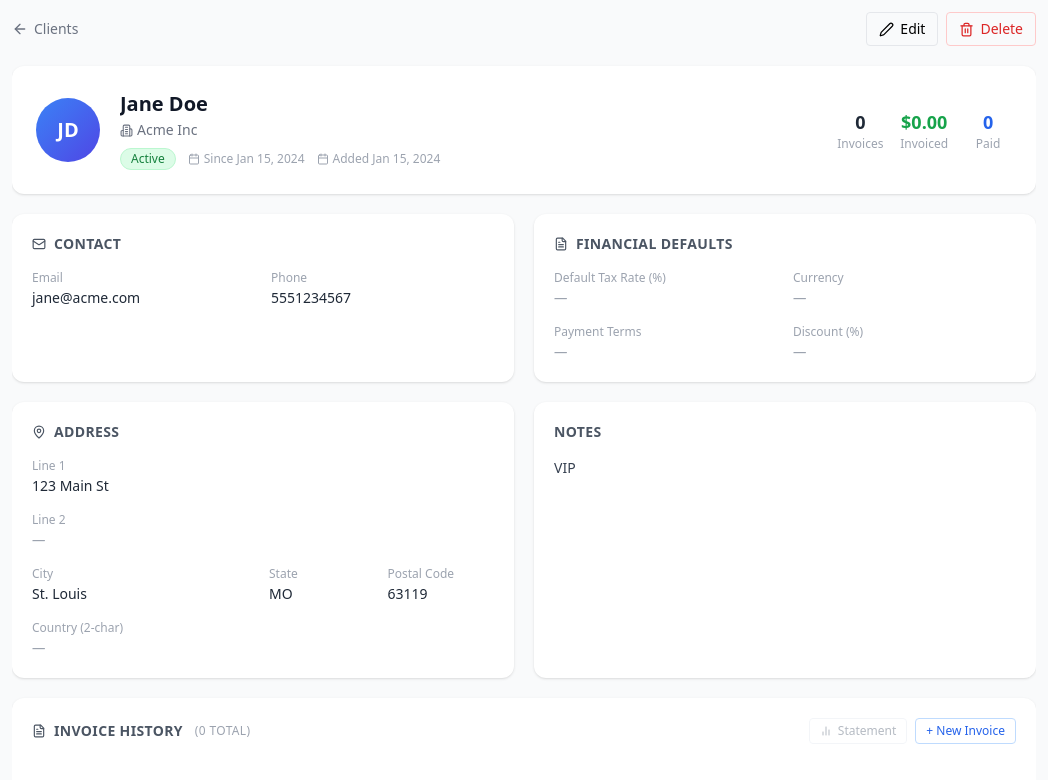
Test: ClientDetail — required field validation › blocks save and shows error when phone is cleared
Expected: the heading "Jane Doe" is shown, [120,90,208,117]
Step 1. Click the button "Edit" → click(902, 29), box [866,12,938,46]
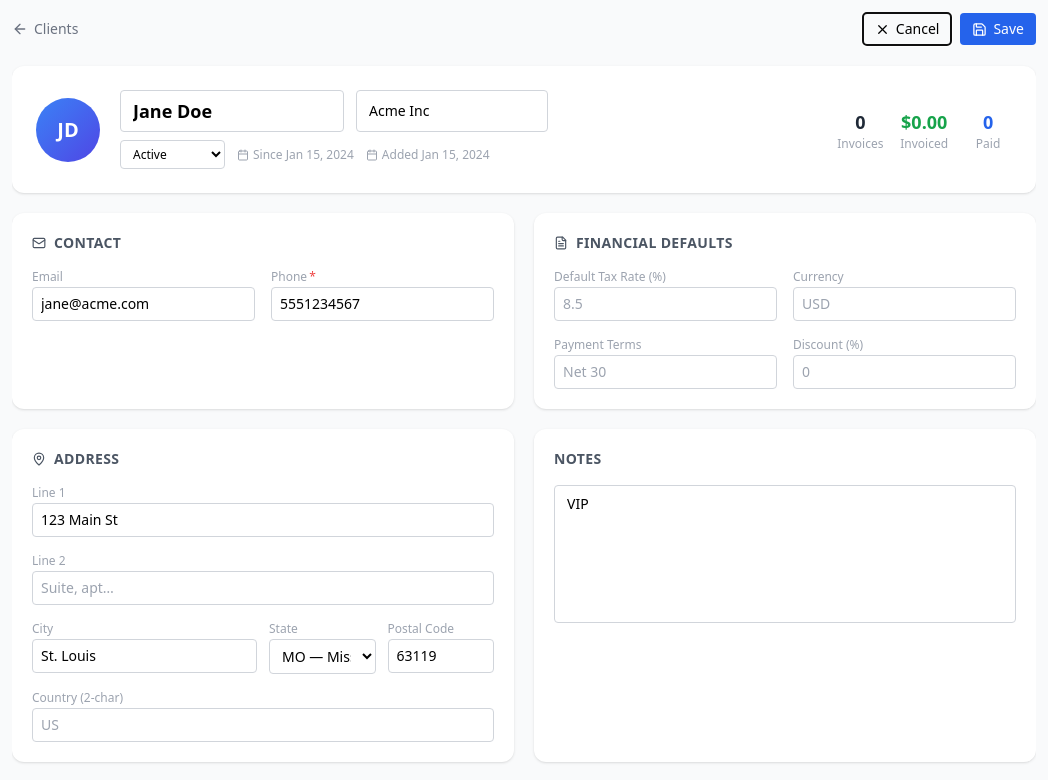
Step 2. Clear the field showing "5551234567" below "Phone" → (382, 304), box [271,287,494,321]
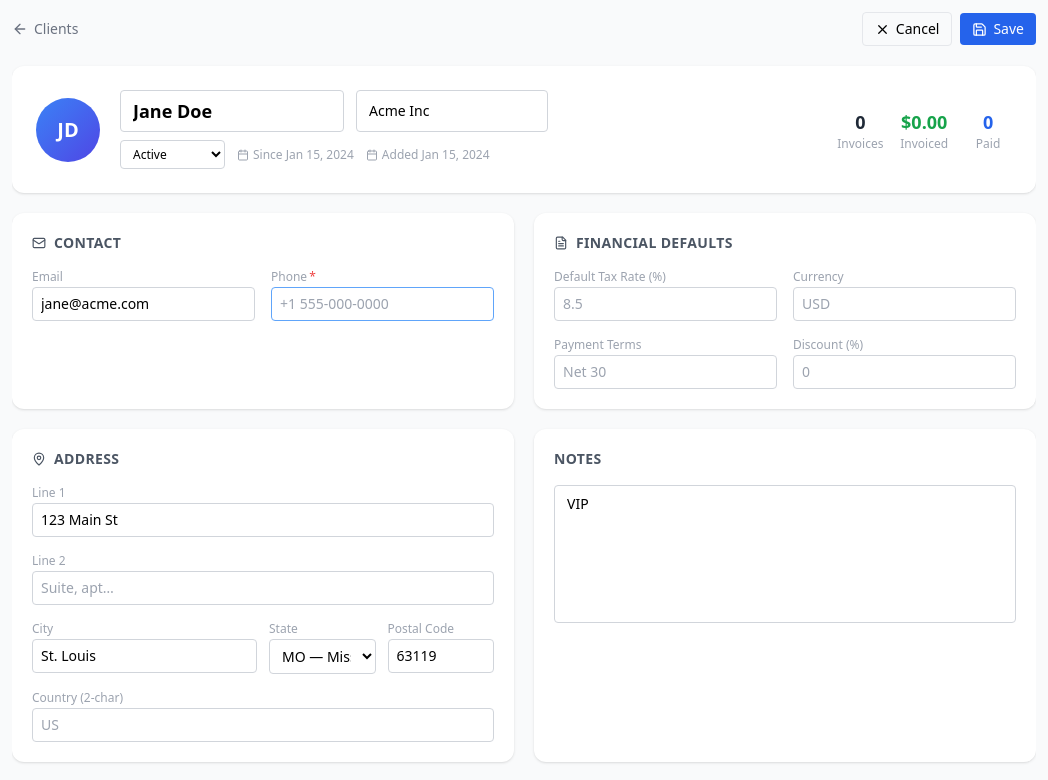
Step 3. Click the button "Save" → click(998, 29), box [960,13,1036,45]
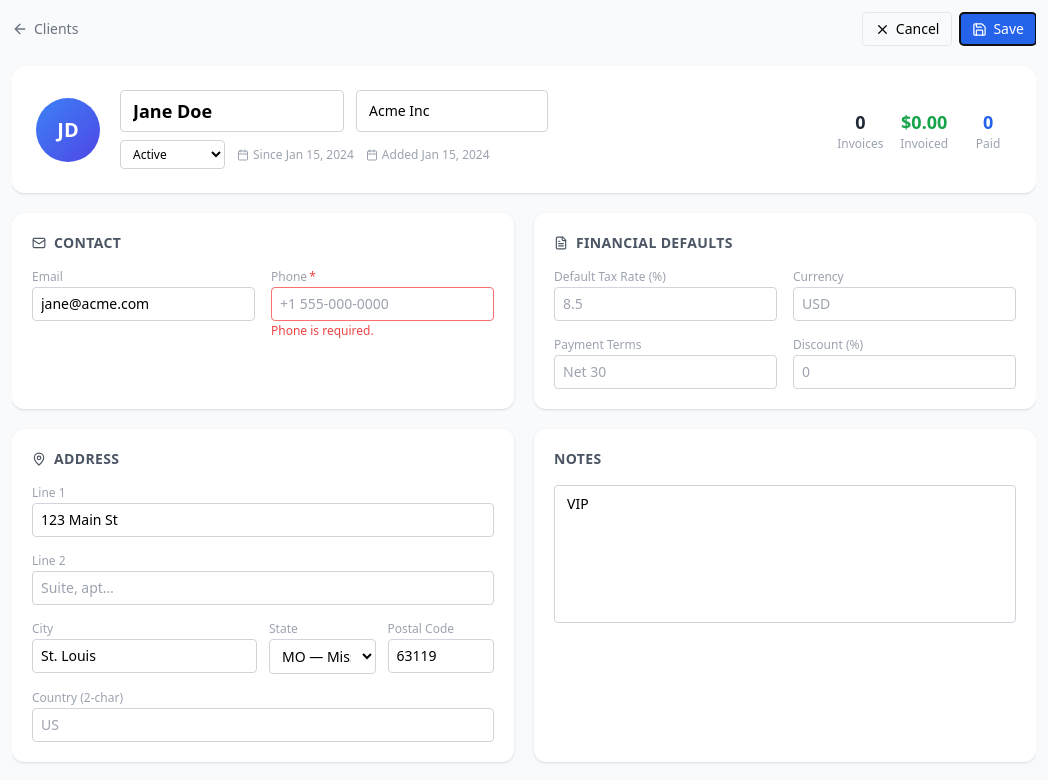
Expected: the text "Phone is required." is shown, [271,322,374,339]
